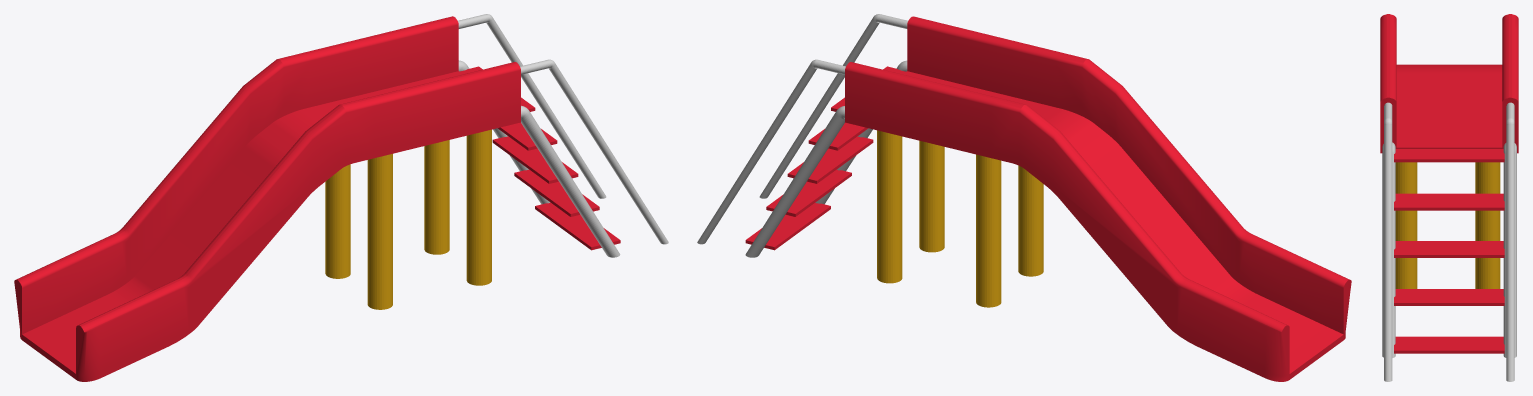
File: seluncuran.fbx
3 renders of one model, left to right at view 1: azimuth 30°, elevation 25°; view 2: azimuth 150°, elevation 25°; view 3: azimuth 270°, elevation 25°, orthographic.
Parts seen in each view (by area): view 1: Cube, Cylinder, Cylinder.003, Cylinder.002, Cylinder.001, Cylinder.004, Cylinder.006, Cylinder.007, Cube.001, Cube.003, Cube.002, Cube.004; view 2: Cube, Cylinder.001, Cylinder.002, Cylinder.003, Cylinder, Cylinder.005, Cylinder.007, Cylinder.006, Cube.001, Cube.003, Cube.002, Cube.004; view 3: Cube, Cylinder.006, Cylinder.007, Cylinder.002, Cylinder.003, Cube.001, Cube.004, Cube.002, Cube.003, Cube.005, Cylinder.005, Cylinder.004.
Part boxes in pixels (left/top/right/bottom): Cube: left=14, top=16, right=520, bottom=381; Cylinder: left=367, top=153, right=392, bottom=309; Cylinder.003: left=466, top=129, right=491, bottom=285; Cylinder.002: left=424, top=140, right=449, bottom=254; Cylinder.001: left=325, top=164, right=350, bottom=278; Cylinder.004: left=521, top=105, right=620, bottom=257; Cylinder.006: left=520, top=59, right=668, bottom=244; Cylinder.007: left=458, top=14, right=606, bottom=198; Cube.001: left=535, top=202, right=620, bottom=250; Cube.003: left=492, top=136, right=578, bottom=183; Cube.002: left=514, top=169, right=599, bottom=216; Cube.004: left=497, top=122, right=557, bottom=150; Cube: left=845, top=16, right=1351, bottom=381; Cylinder.001: left=976, top=154, right=1001, bottom=307; Cylinder.002: left=877, top=130, right=902, bottom=283; Cylinder.003: left=919, top=140, right=944, bottom=252; Cylinder: left=1018, top=165, right=1043, bottom=276; Cylinder.005: left=745, top=106, right=844, bottom=257; Cylinder.007: left=697, top=59, right=845, bottom=244; Cylinder.006: left=759, top=14, right=907, bottom=198; Cube.001: left=745, top=203, right=830, bottom=250; Cube.003: left=787, top=136, right=873, bottom=183; Cube.002: left=766, top=169, right=851, bottom=216; Cube.004: left=808, top=122, right=868, bottom=150; Cube: left=1380, top=14, right=1518, bottom=153; Cylinder.006: left=1384, top=102, right=1392, bottom=381; Cylinder.007: left=1506, top=102, right=1514, bottom=381; Cylinder.002: left=1475, top=162, right=1500, bottom=288; Cylinder.003: left=1395, top=162, right=1417, bottom=288; Cube.001: left=1394, top=336, right=1504, bottom=353; Cube.004: left=1394, top=193, right=1504, bottom=210; Cube.002: left=1394, top=289, right=1504, bottom=305; Cube.003: left=1394, top=241, right=1504, bottom=257; Cube.005: left=1394, top=149, right=1504, bottom=162; Cylinder.005: left=1503, top=143, right=1516, bottom=357; Cylinder.004: left=1382, top=142, right=1395, bottom=357.
Bounding box in the file's own units: 803 × 283 × 167.
